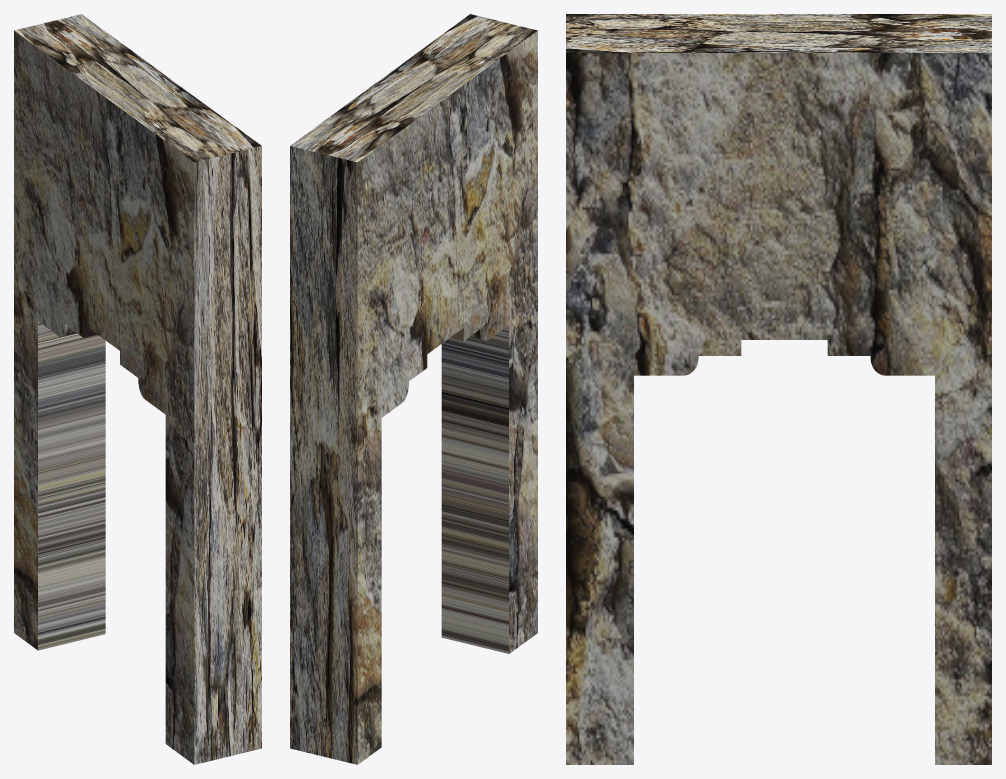
Rendered from door_2.fbx.
3 views of the same model, side by side, from view 1: azimuth 30°, elevation 25°; view 2: azimuth 150°, elevation 25°; view 3: azimuth 270°, elevation 25° (orthographic). The views are drawn at different scales.
Parts seen in each view (by area): view 1: Cube.045; view 2: Cube.045; view 3: Cube.045.
Part boxes in pixels (<box>): Cube.045: <box>14,14,261,764</box>; Cube.045: <box>290,14,537,764</box>; Cube.045: <box>566,14,991,764</box>.
Size of the model in its own units: 62 by 528 by 286.
1 material, 1 textured.
